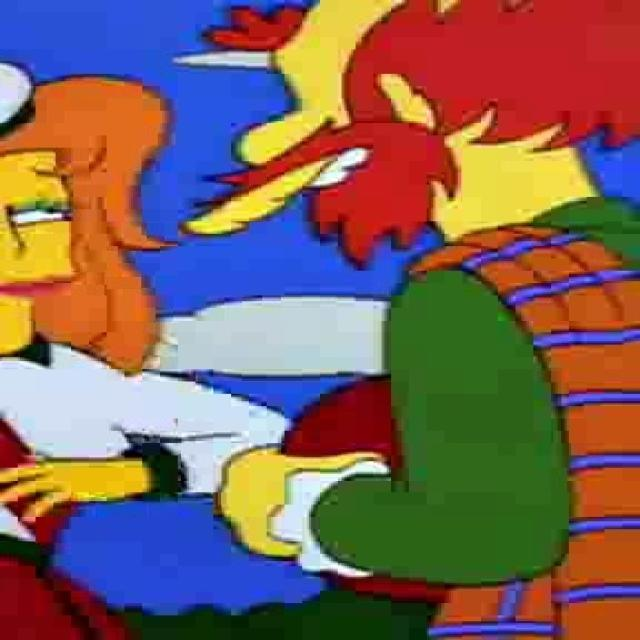Groundskeeper Willie: (169, 0, 640, 277)
